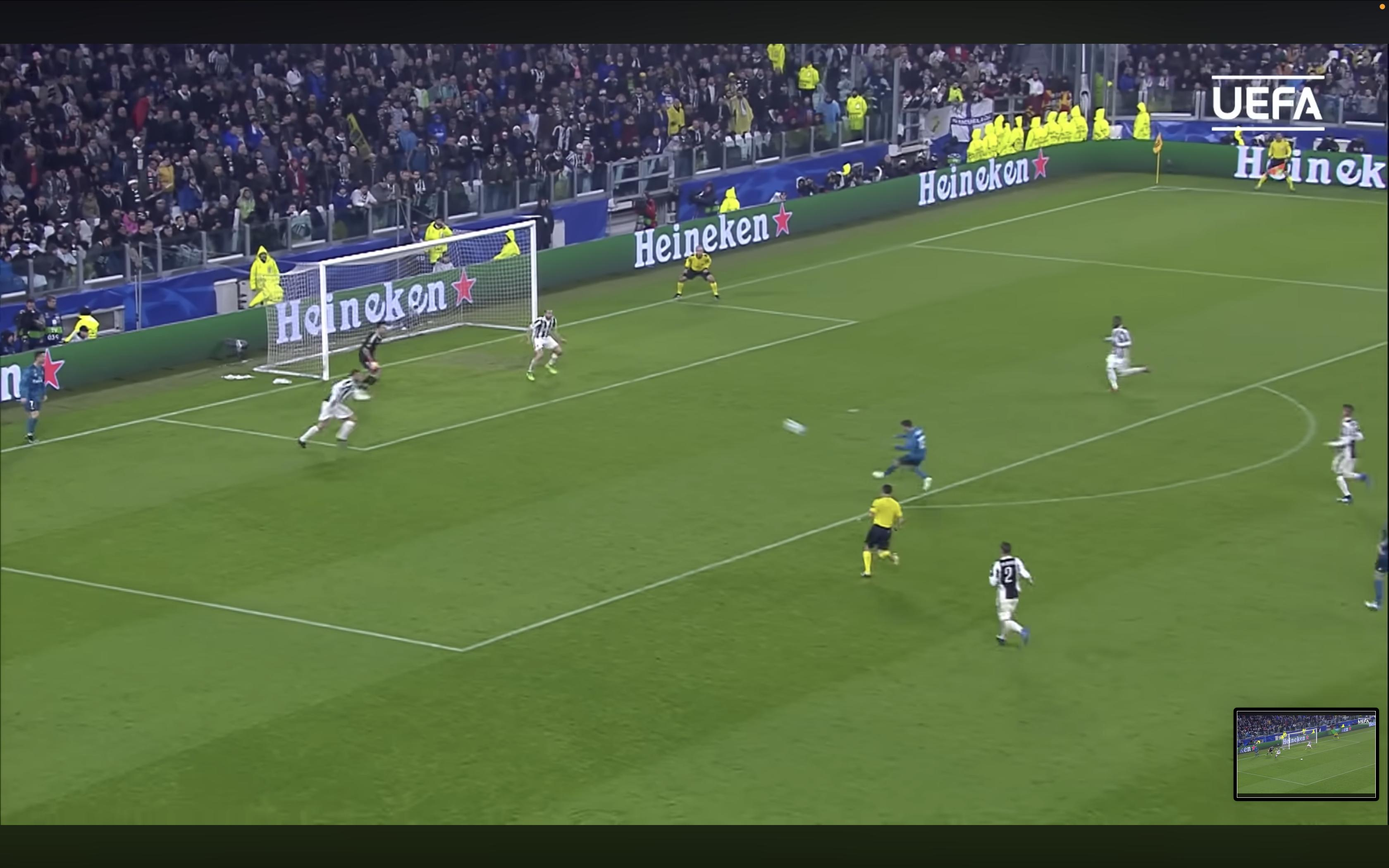ball: (782, 418, 806, 434), (1299, 758, 1304, 760)
goalkeeper: (353, 323, 386, 400)
player: (298, 370, 363, 447), (989, 542, 1033, 646), (1327, 404, 1369, 504), (873, 420, 932, 491), (1104, 316, 1149, 391), (526, 310, 563, 381), (19, 351, 47, 444), (1365, 524, 1389, 610)
referee: (862, 484, 904, 577), (674, 247, 719, 299), (1256, 132, 1294, 190)
